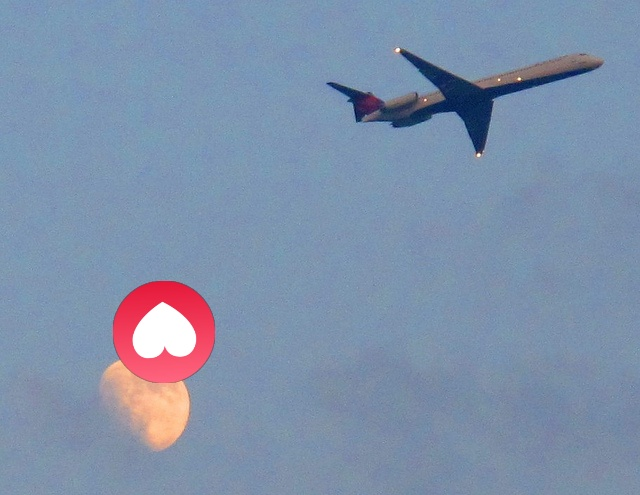love: (113, 281, 215, 383)
